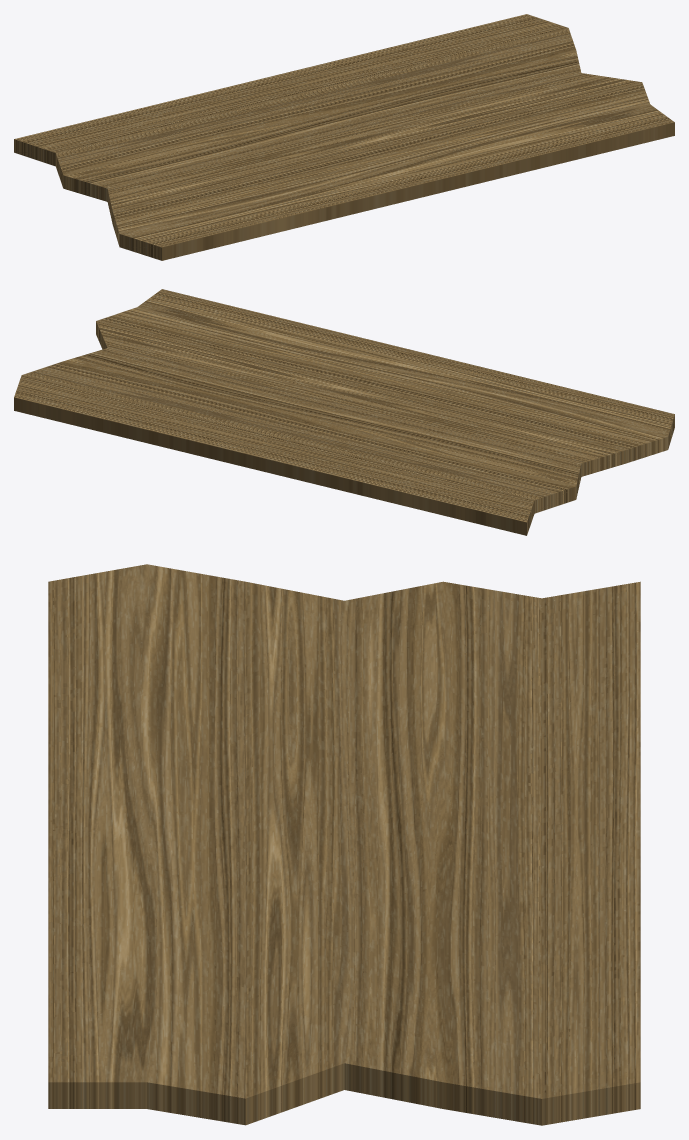
File: WoodRamp.fbx
3 views of the same model, one above another, from view 1: azimuth 30°, elevation 25°; view 2: azimuth 150°, elevation 25°; view 3: azimuth 270°, elevation 25° (orthographic). The views are drawn at different scales.
Parts seen in each view (by area): view 1: Ramp; view 2: Ramp; view 3: Ramp.
Boxes of the visible parts, x1,y1,x2,y2 form: Ramp: (14,14,674,260); Ramp: (14,289,674,535); Ramp: (48,564,640,1125).
Size of the model in its own units: 107 by 2.49 by 50.
1 material, 1 textured.
